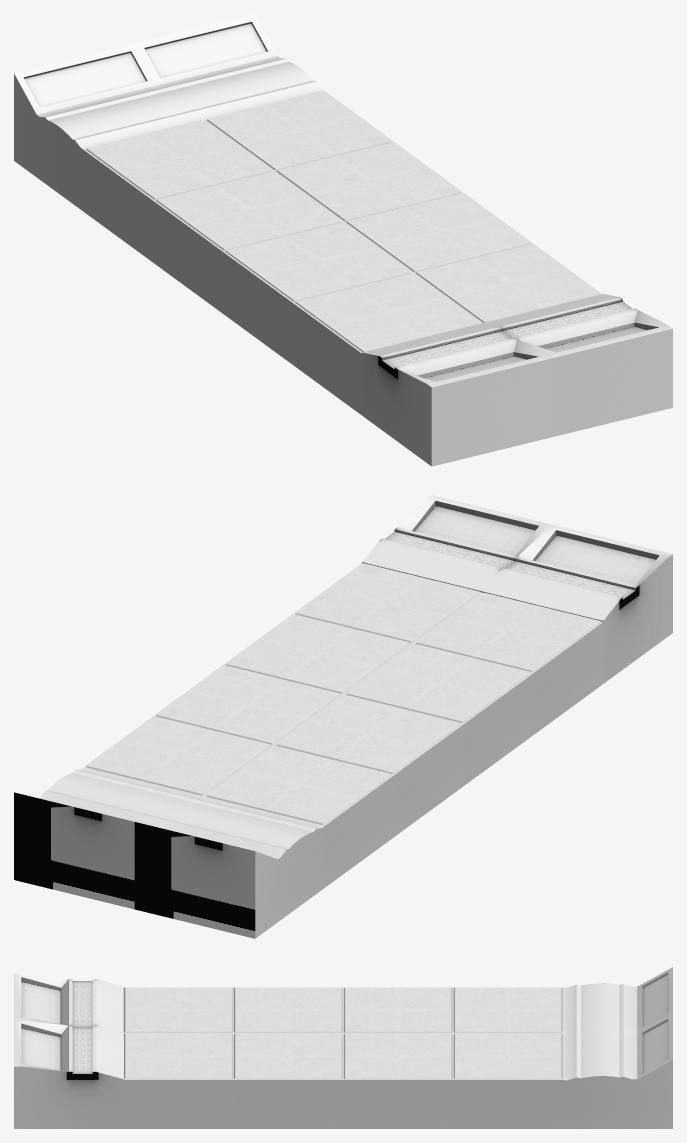
File: WallSolid_2_4.fbx
3 renders of one model, top to bottom at view 1: azimuth 30°, elevation 25°; view 2: azimuth 150°, elevation 25°; view 3: azimuth 270°, elevation 25°, orthographic. The views are drawn at different scales.
Visible parts, largest first — view 1: Wall_solid_2_4; view 2: Wall_solid_2_4; view 3: Wall_solid_2_4.
Boxes of the visible parts, left/top/right/bottom form: Wall_solid_2_4: left=14, top=14, right=672, bottom=466; Wall_solid_2_4: left=14, top=495, right=672, bottom=938; Wall_solid_2_4: left=14, top=967, right=672, bottom=1128.
Size of the model in its own units: 2 by 0.6947 by 6.
